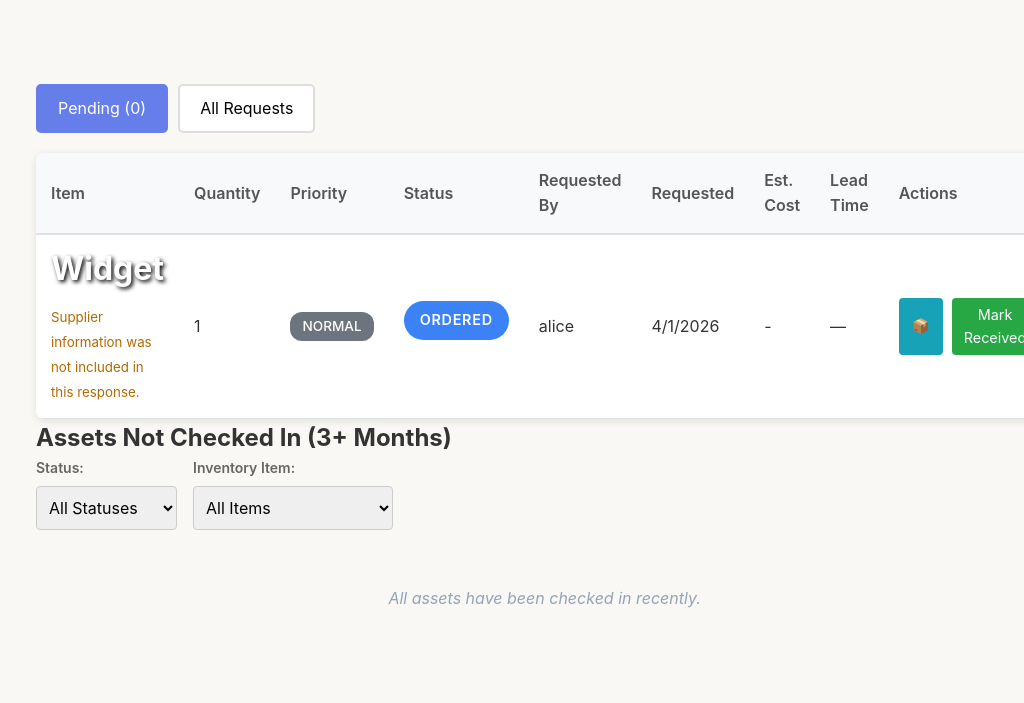
Scenario: AdminDashboard — mark received flow › prompts for actual delivery date and posts it to the API
(page scrolled)
Step 1. Click the button "Mark Received" → (988, 327), box [952,298,1023,355]
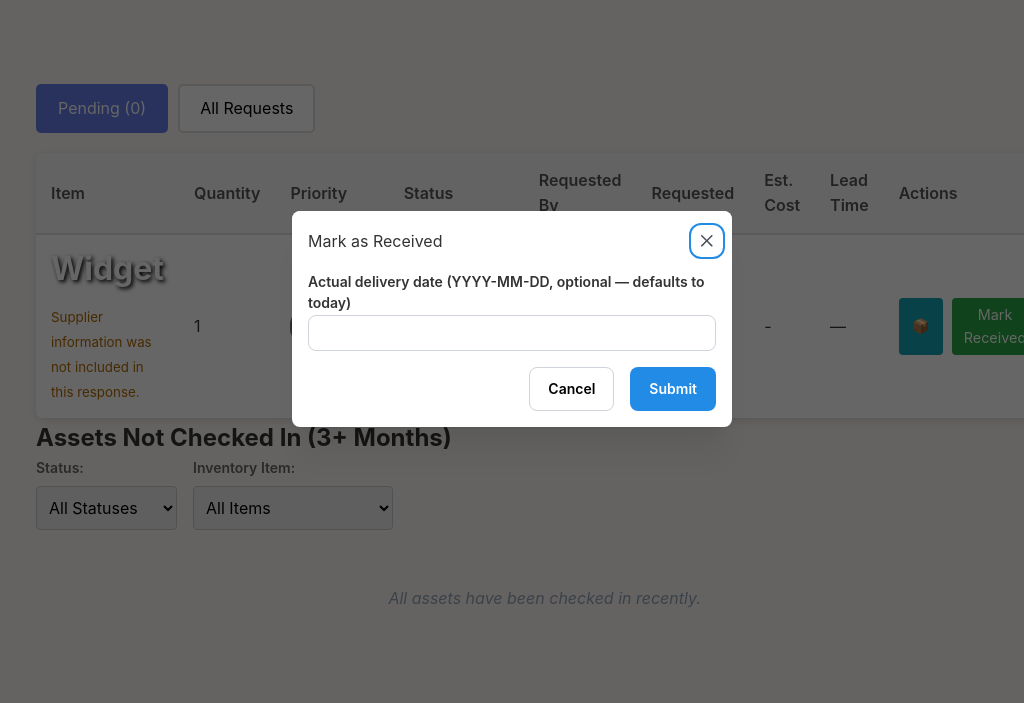
Step 2. Type "2026-05-02" into the field labelled "Actual delivery date" → (512, 333), box [308,315,716,351]
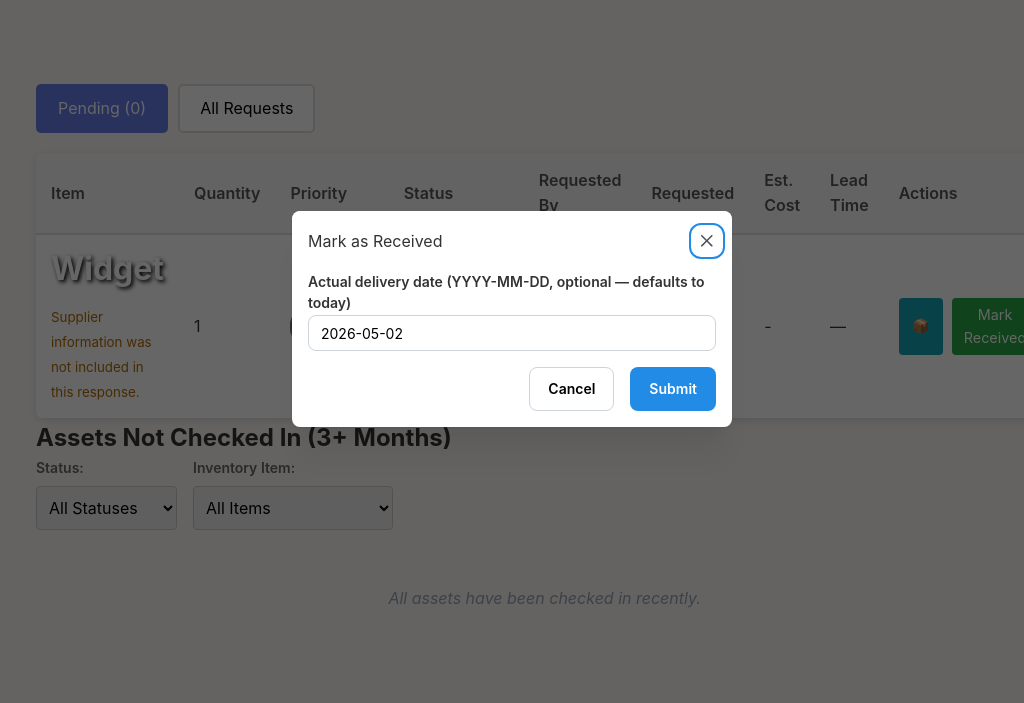
Step 3. Click the button "Submit" → (673, 389), box [630,367,716,411]
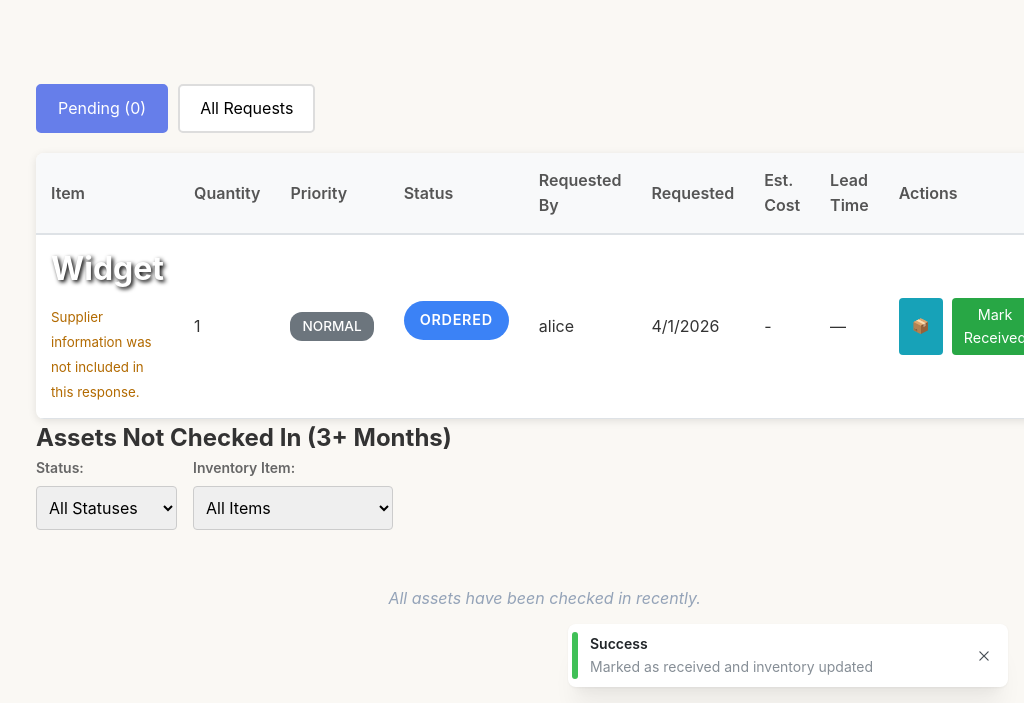
Now the text "Marked as received and inventory updated" is shown, box [590,658,873,675]
